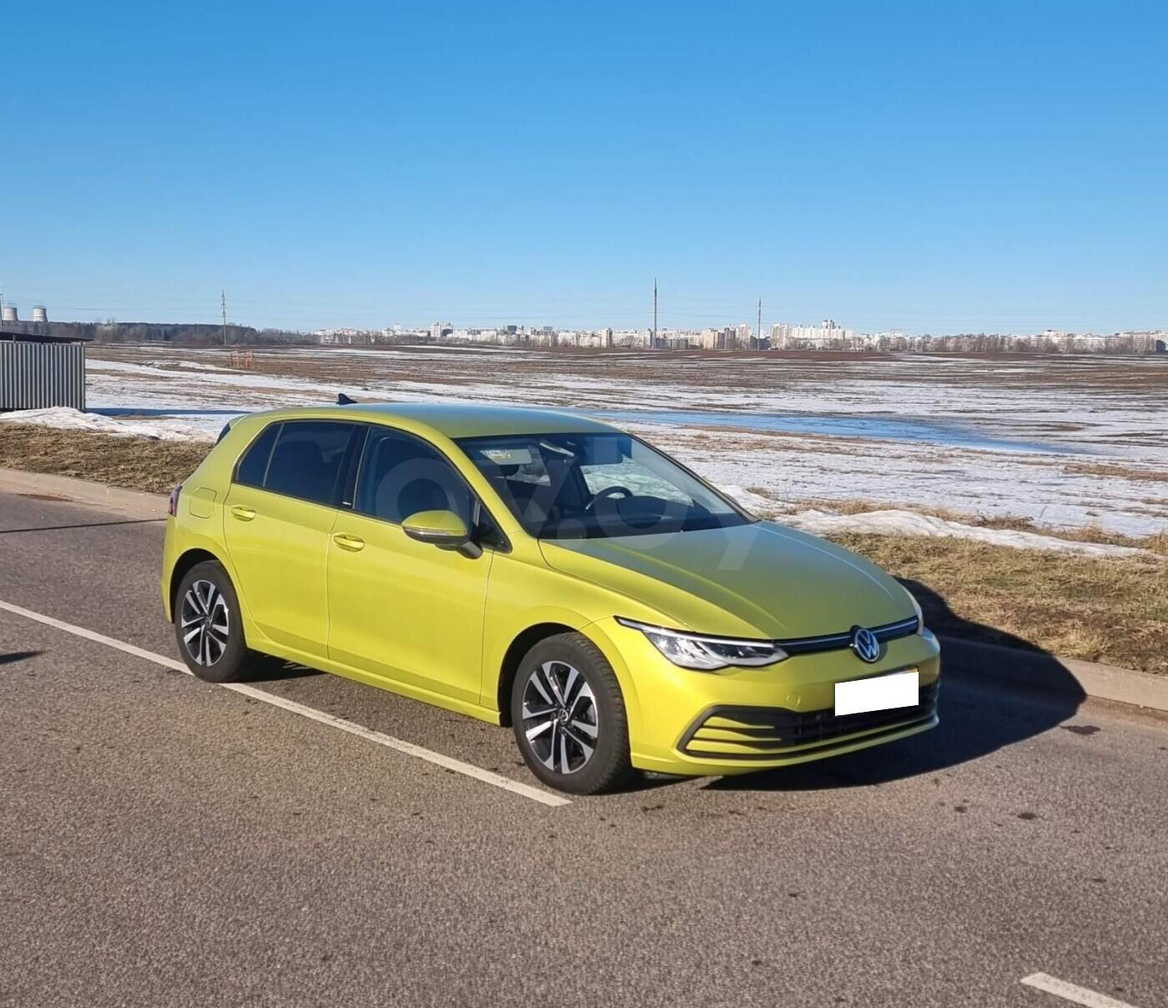Golf_2019: (154, 399, 950, 800)
